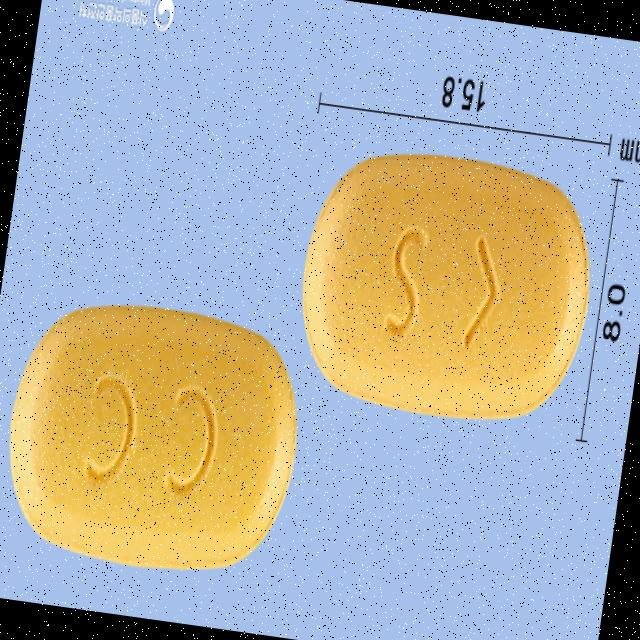Clribio: (285, 141, 606, 433), (0, 295, 311, 593)
